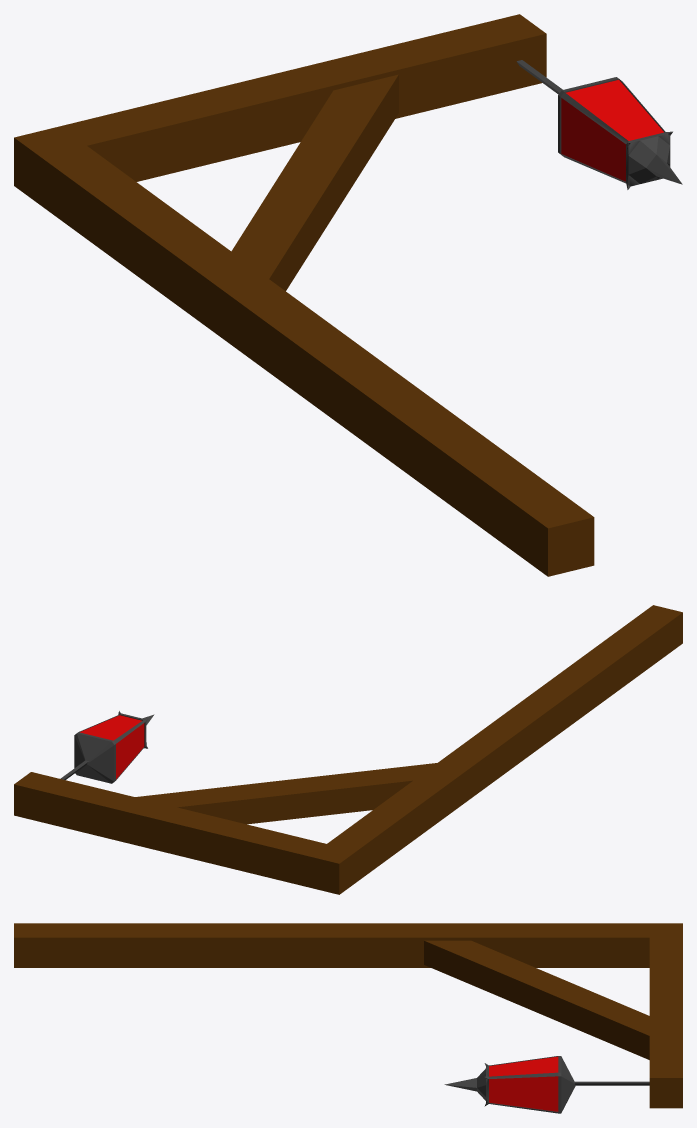
File: StreetLamp.fbx
3 views of the same model, one above another, from view 1: azimuth 30°, elevation 25°; view 2: azimuth 150°, elevation 25°; view 3: azimuth 270°, elevation 25° (orthographic). The views are drawn at different scales.
Parts seen in each view (by area): view 1: StreetLamp; view 2: StreetLamp; view 3: StreetLamp.
Part boxes in pixels (bbox=[...]): StreetLamp: bbox=[14, 14, 682, 576]; StreetLamp: bbox=[14, 605, 682, 894]; StreetLamp: bbox=[14, 923, 682, 1113].
Bounding box in the file's own units: 22023 × 2700 × 40000.
